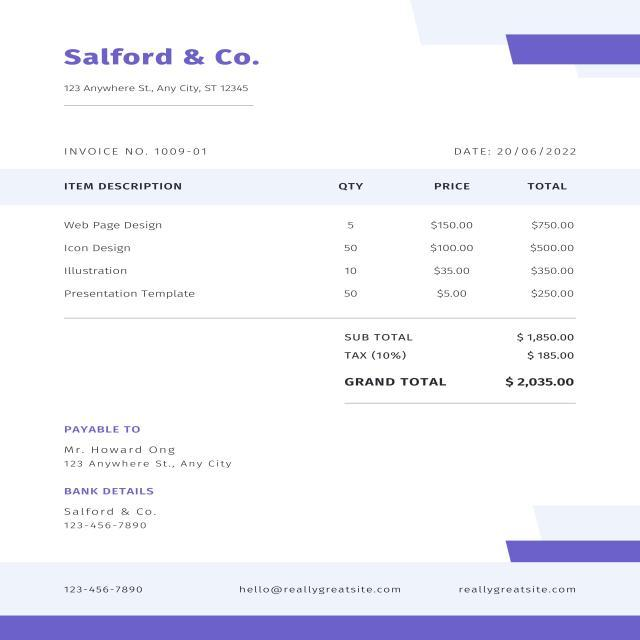invoice_date: (494, 143, 585, 162)
invoice_number: (150, 144, 212, 158)
invoice_subtotal: (510, 329, 578, 345)
invoice_total: (496, 374, 579, 393)
item_description: (62, 216, 214, 304)
item_quantity: (340, 214, 360, 305)
item_total_price: (528, 215, 580, 304)
item_unit_price: (420, 212, 486, 307)
supplier_address: (62, 79, 258, 97)
supplier_name: (55, 44, 271, 71)
tax_amount: (519, 349, 581, 362)
tax_rate: (377, 351, 401, 361)
